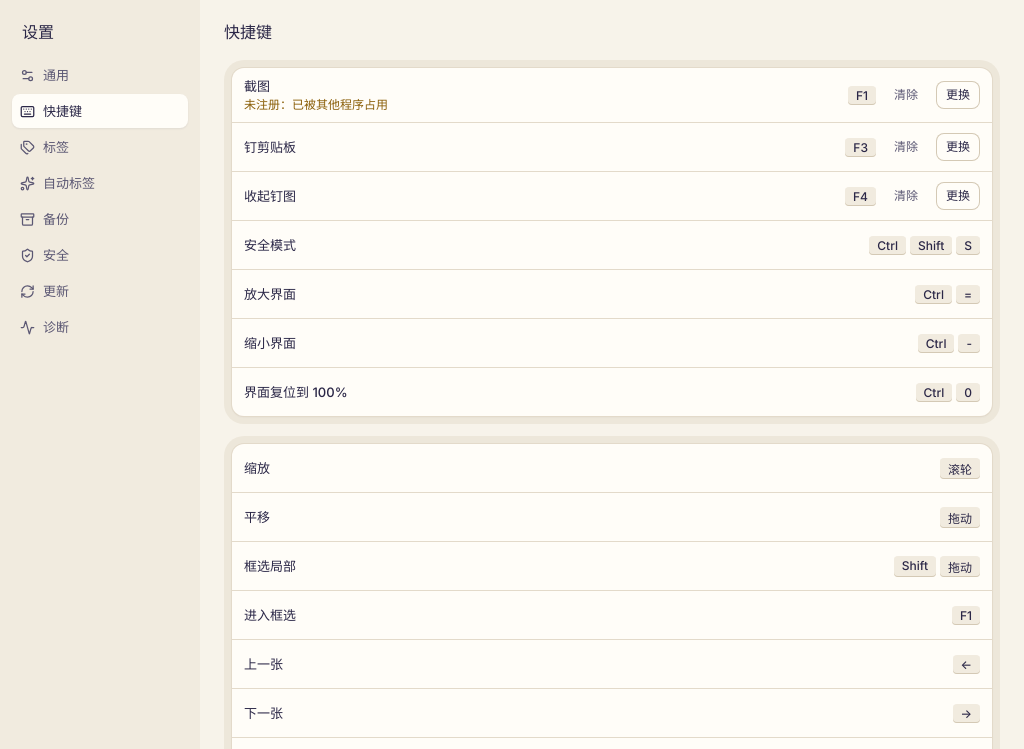
设置：常驻与快捷键 › 按下新的组合键即更换快捷键
The width and height of the screenshot is (1024, 749).
Click the button "更换" in the row of "未注册：已被其他程序占用" at (958, 95), box [936,81,980,109]
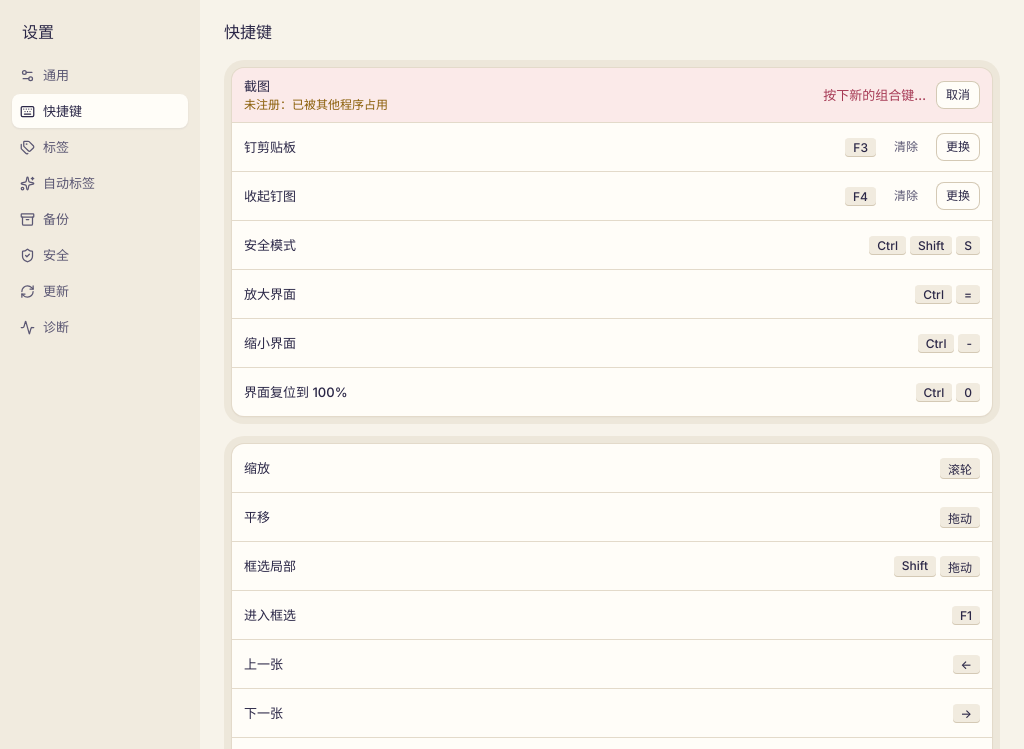
Press Control in the field labelled "按下新的组合键", box [788,84,928,106]
Press a in the field labelled "按下新的组合键", box [788,84,928,106]
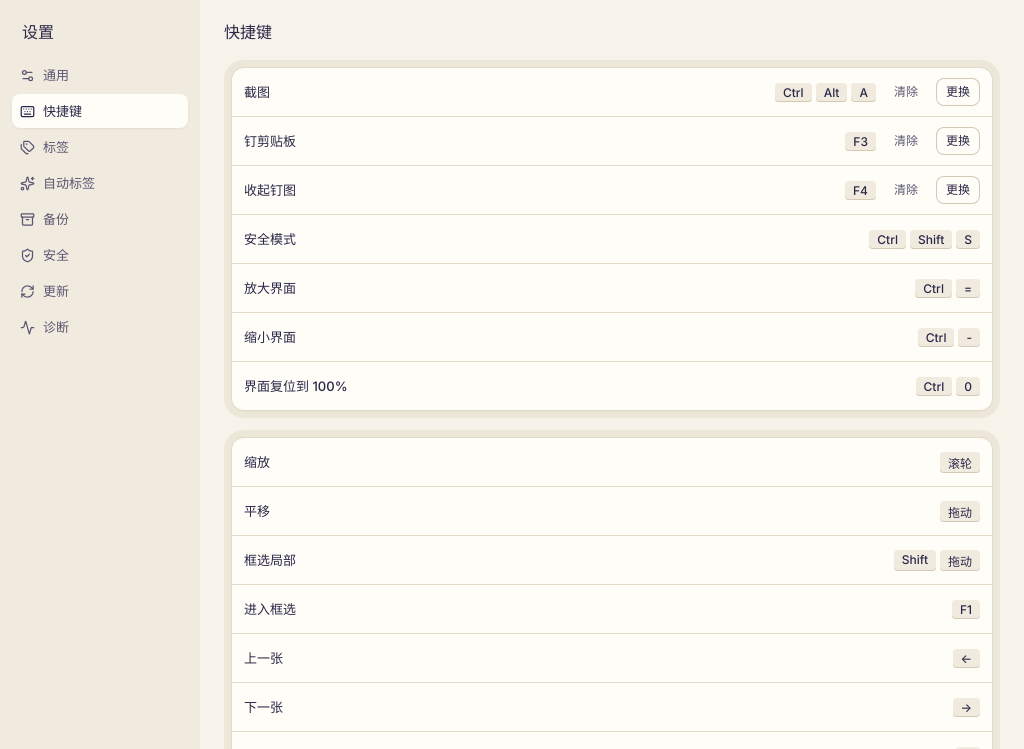
Check: the element named "Ctrl+Alt+A" is shown, box [775,82,876,102]
Check: the text "A" is shown, box [852,82,876,102]
Check: the text "未注册" is gone
